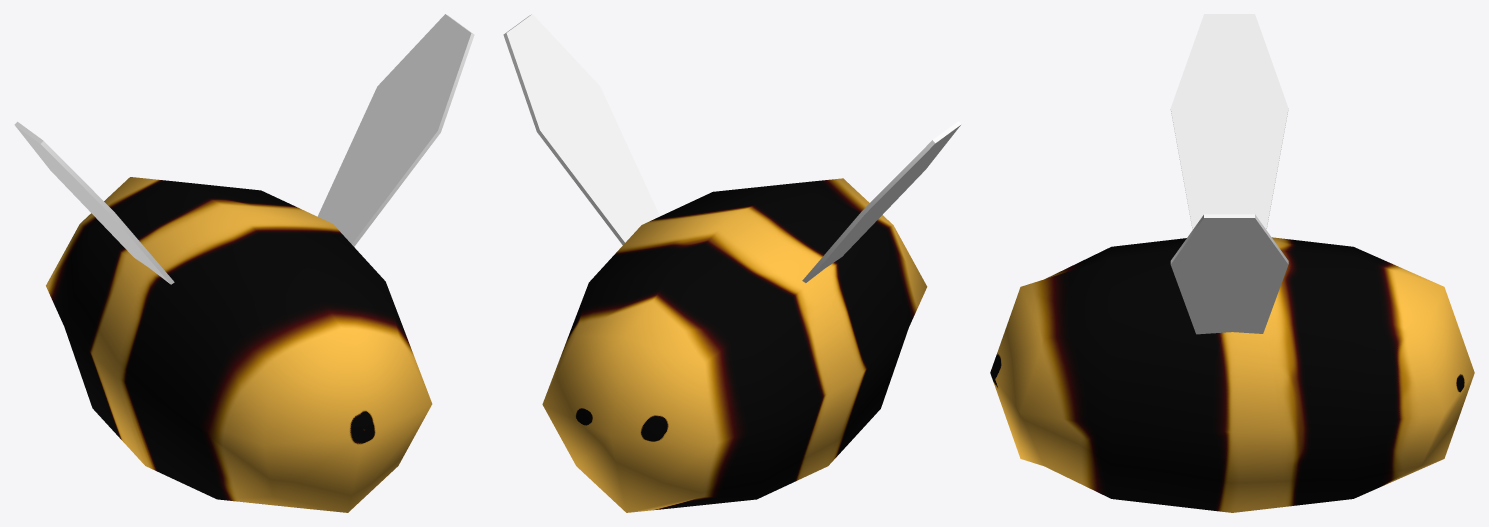
Rendered from bee.fbx.
The picture shows the model from 3 angles, left to right: view 1: azimuth 30°, elevation 25°; view 2: azimuth 150°, elevation 25°; view 3: azimuth 270°, elevation 25°; orthographic projection. The views are drawn at different scales.
Visible parts, largest first — view 1: pCube4; view 2: pCube4; view 3: pCube4.
Part boxes in pixels (x1,y1,x2,y2): pCube4: (14, 14, 474, 512); pCube4: (503, 14, 961, 512); pCube4: (990, 14, 1474, 512).
Bounding box in the file's own units: 6.8 × 5.99 × 6.76.
1 material, 1 textured.
